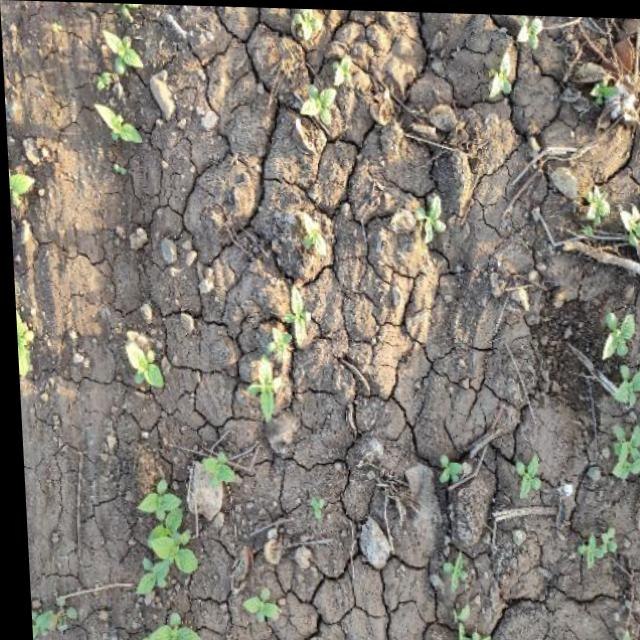crop: (117, 480, 201, 598), (585, 303, 640, 476), (234, 298, 309, 414), (80, 30, 146, 94), (111, 332, 169, 395), (475, 44, 524, 100), (87, 104, 148, 146), (563, 519, 616, 566), (500, 450, 543, 501), (290, 79, 341, 121), (411, 187, 449, 242), (428, 452, 469, 490), (574, 189, 616, 223)
weed: (560, 18, 640, 109)
